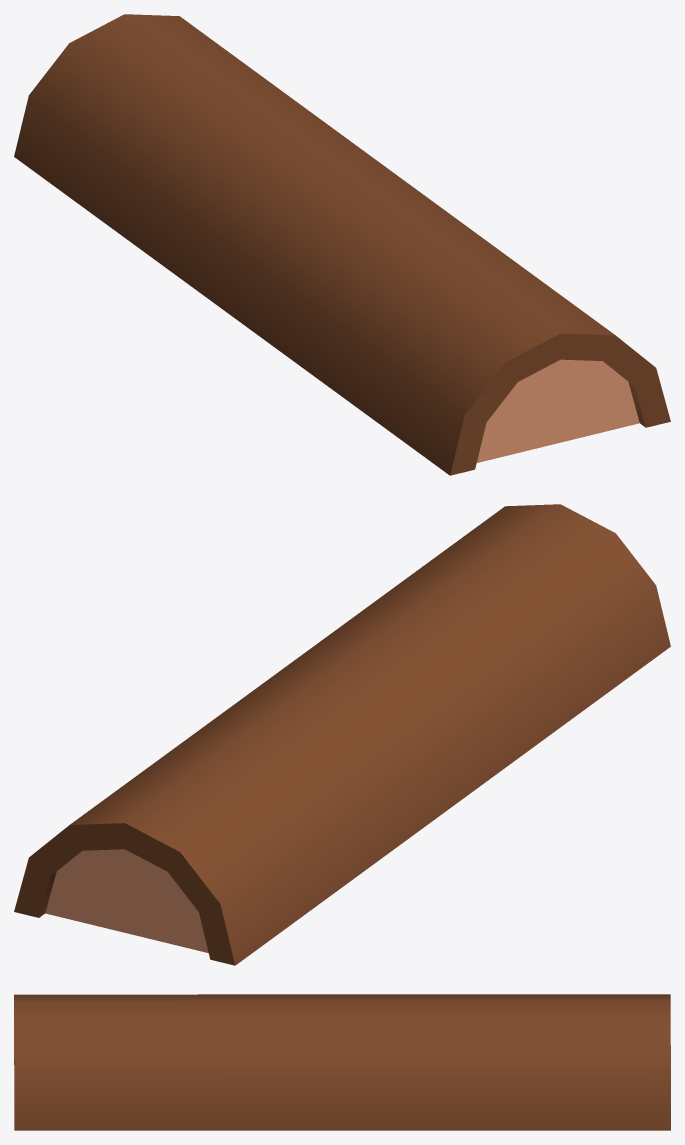
Rendered from Wood_A.fbx.
3 renders of one model, top to bottom at view 1: azimuth 30°, elevation 25°; view 2: azimuth 150°, elevation 25°; view 3: azimuth 270°, elevation 25°, orthographic. The views are drawn at different scales.
Parts seen in each view (by area): view 1: Wood_A; view 2: Wood_A; view 3: Wood_A.
Boxes of the visible parts, bbox=[...] form: Wood_A: bbox=[14, 14, 670, 475]; Wood_A: bbox=[14, 504, 670, 965]; Wood_A: bbox=[14, 994, 670, 1130].
Size of the model in its own units: 32.29 by 16.13 by 110.
